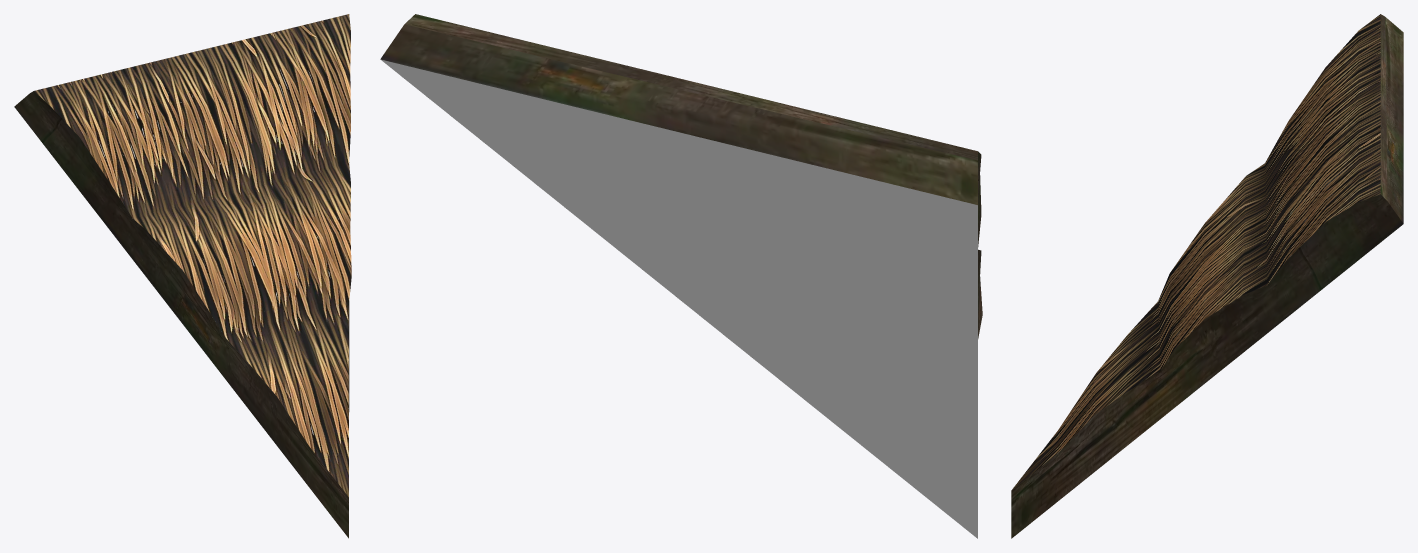
3 views of the same model, side by side, from view 1: azimuth 30°, elevation 25°; view 2: azimuth 150°, elevation 25°; view 3: azimuth 270°, elevation 25° (orthographic). The views are drawn at different scales.
Parts seen in each view (by area): view 1: SM_BB_T1_Extended_Roof_Triangle_Large_LOD0; view 2: SM_BB_T1_Extended_Roof_Triangle_Large_LOD0; view 3: SM_BB_T1_Extended_Roof_Triangle_Large_LOD0.
Boxes of the visible parts, <box> form: SM_BB_T1_Extended_Roof_Triangle_Large_LOD0: <box>14,14,351,538</box>; SM_BB_T1_Extended_Roof_Triangle_Large_LOD0: <box>380,14,982,538</box>; SM_BB_T1_Extended_Roof_Triangle_Large_LOD0: <box>1011,14,1403,538</box>.
Bounding box in the file's own units: 3.19 × 3.37 × 2.76.
